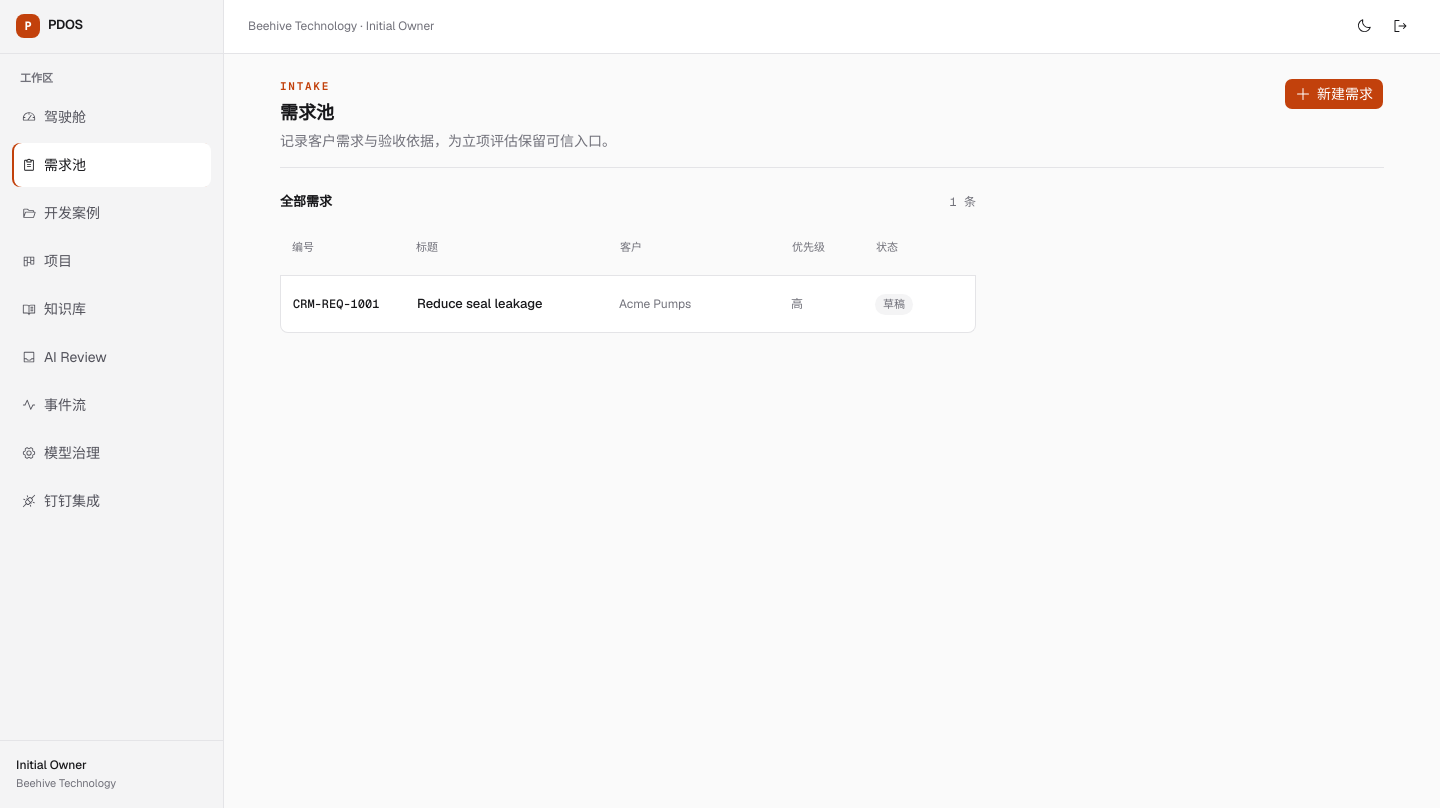
Scenario: RequirementPool › requires a separate human action to establish a CRM draft
Check: the text "CRM-REQ-1001" is shown, box [293,296,379,312]
Click the button with aria-label "打开需求 CRM-REQ-1001" at (336, 304), box [281,276,975,332]
(page scrolled)
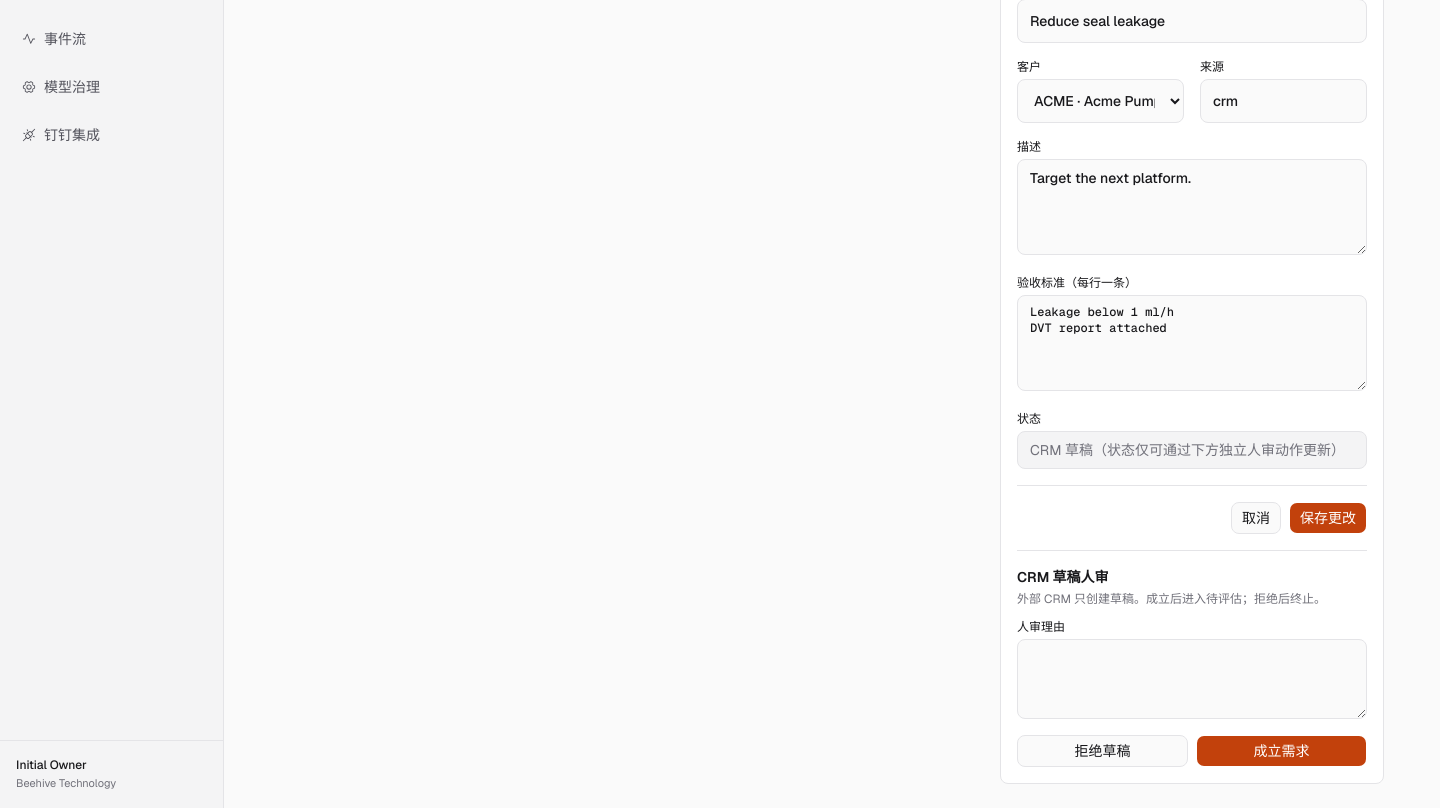
Check: the text "CRM 草稿（状态仅可通过下方独立人审动作更新）" is shown, box [1017,431,1367,469]
Type "产品团队确认范围可进入评估。 " into the text box labelled "人审理由" at (1192, 679), box [1017,639,1367,719]
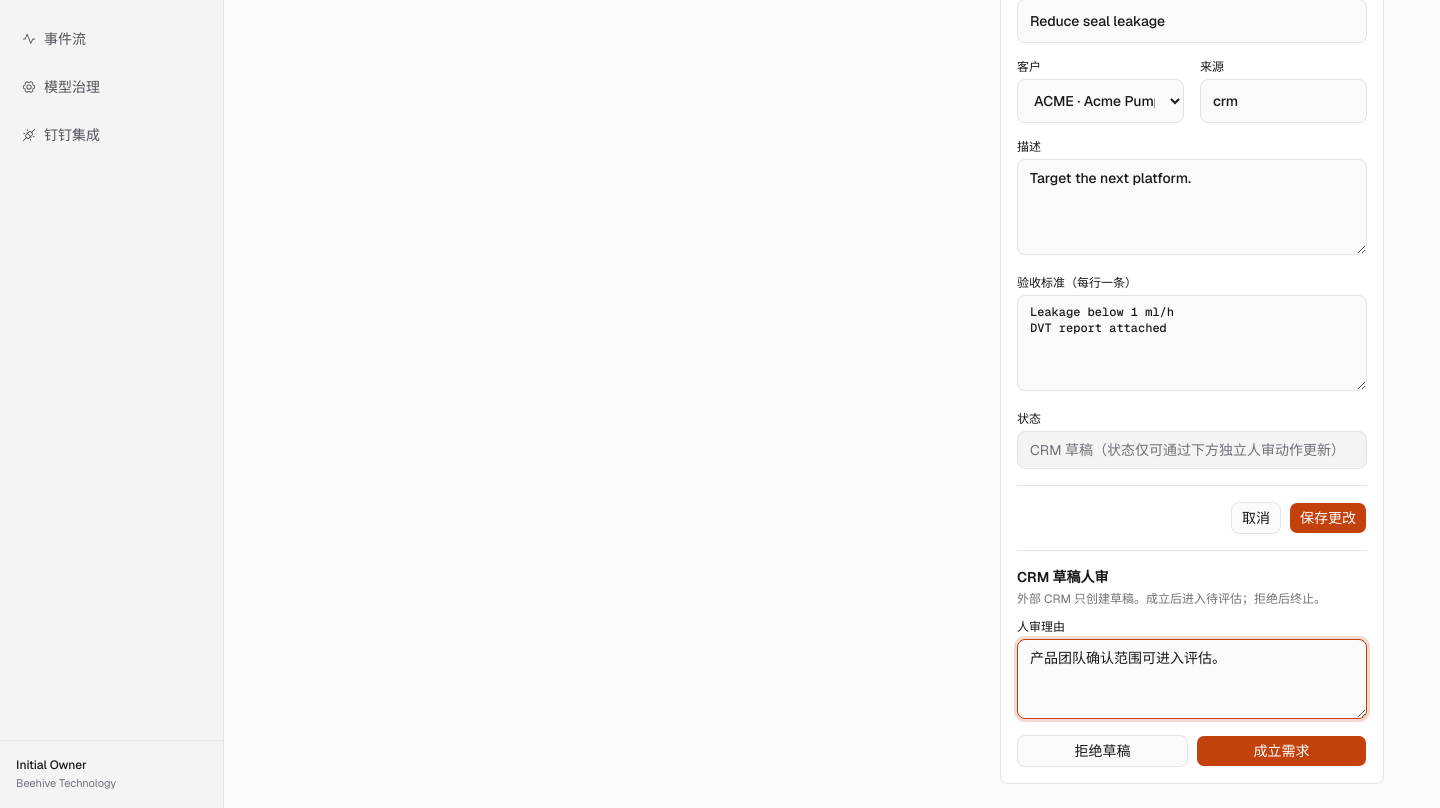
Click the button "成立需求" at (1282, 751), box [1196,735,1367,767]
(page scrolled)
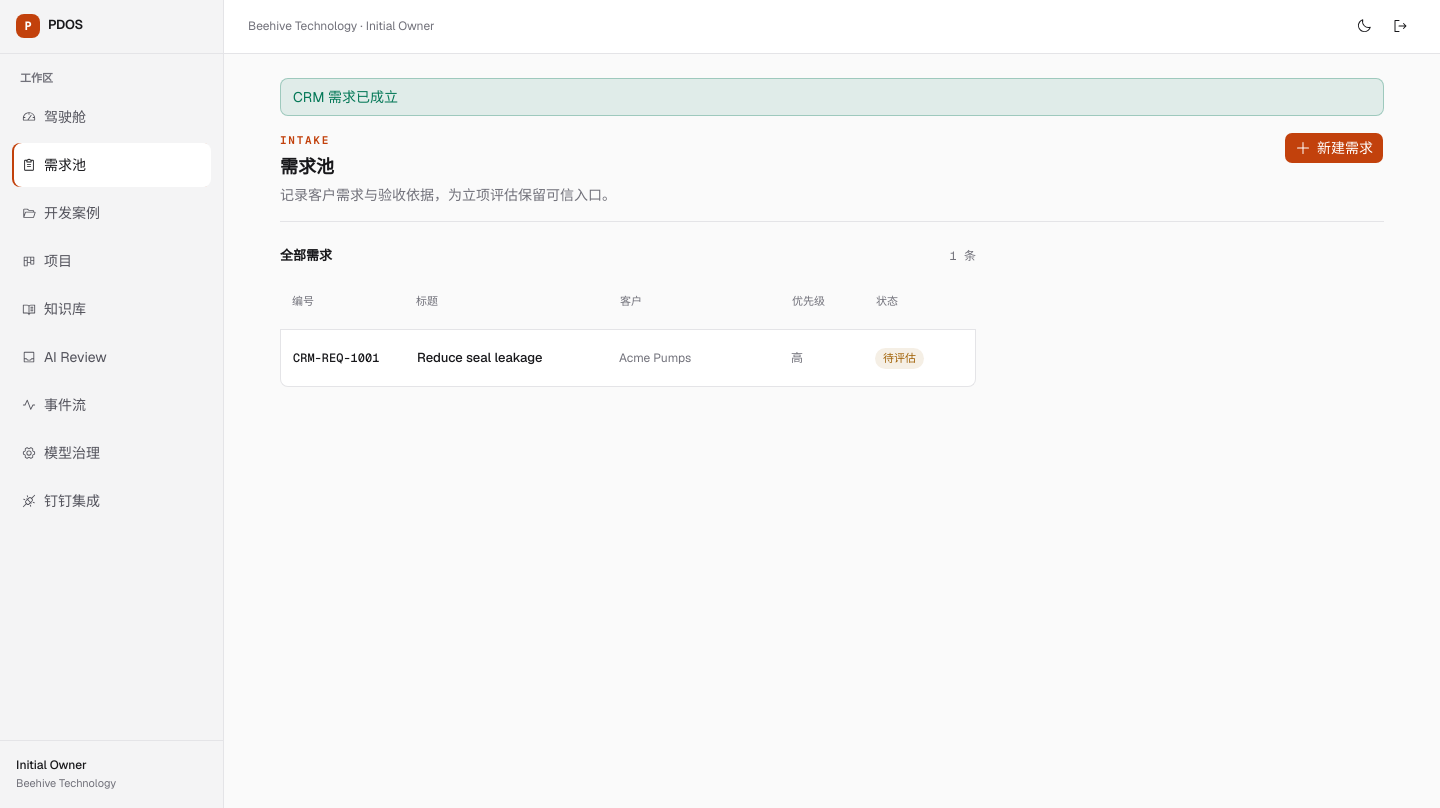
Check: the message reads "CRM 需求已成立", box [293,88,398,106]
